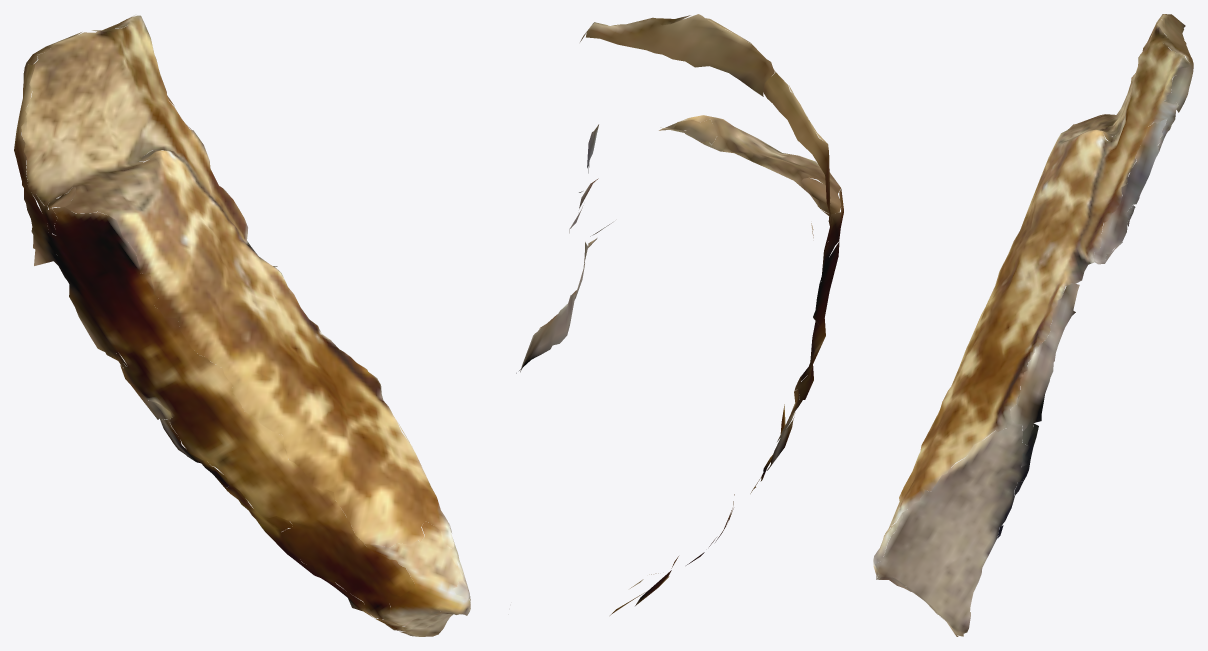
File: spittoon.glb
3 renders of one model, left to right at view 1: azimuth 30°, elevation 25°; view 2: azimuth 150°, elevation 25°; view 3: azimuth 270°, elevation 25°, orthographic. The views are drawn at different scales.
Visible parts, largest first — view 1: scan; view 2: scan; view 3: scan.
Part boxes in pixels (x1,y1,x2,y2): scan: (14,15,470,636); scan: (516,14,843,615); scan: (873,14,1193,636).
Size of the model in its own units: 0.6215 by 1.04 by 0.5901.
Materials: 1 (1 with a texture image).
